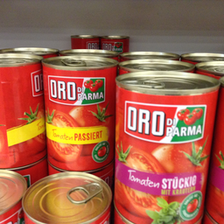tomato_sauce: (114, 71, 222, 223), (42, 54, 119, 171)
